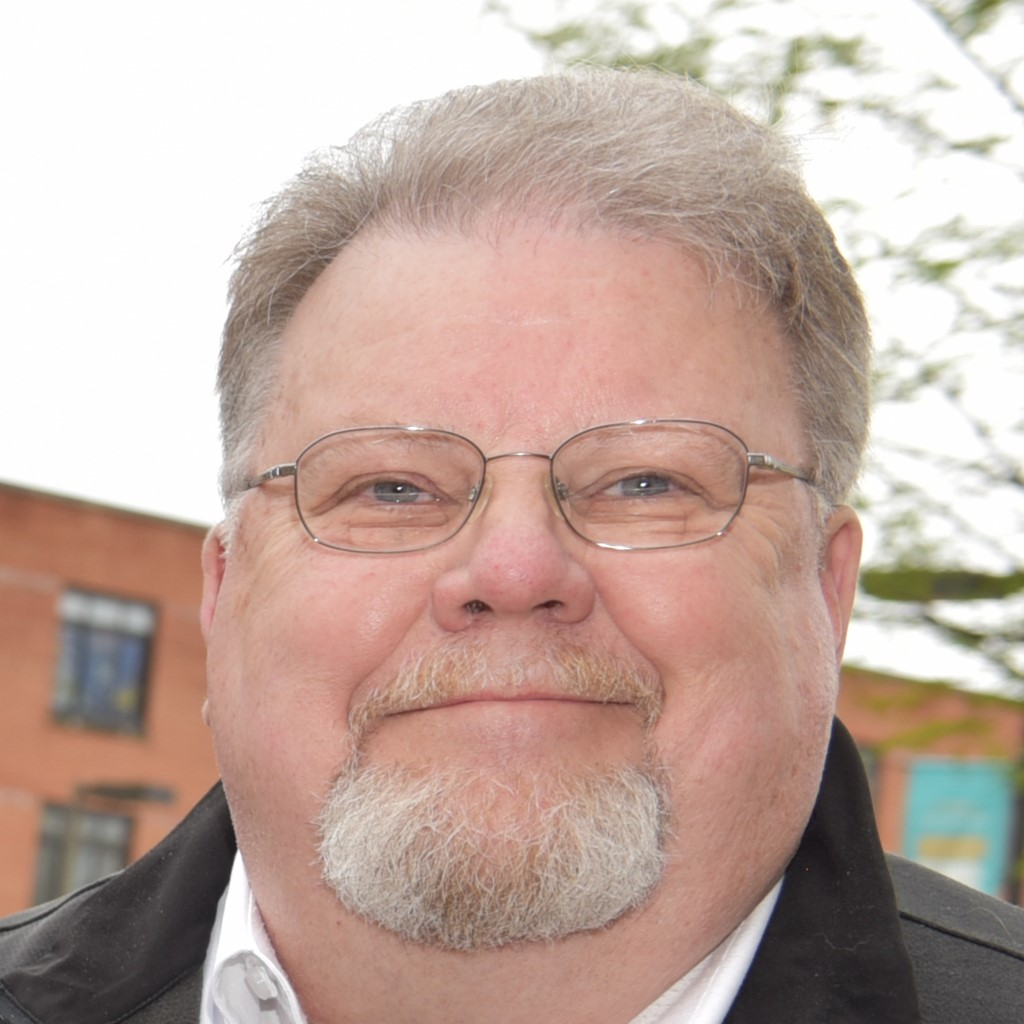sin_mascara: (230, 204, 820, 921)
